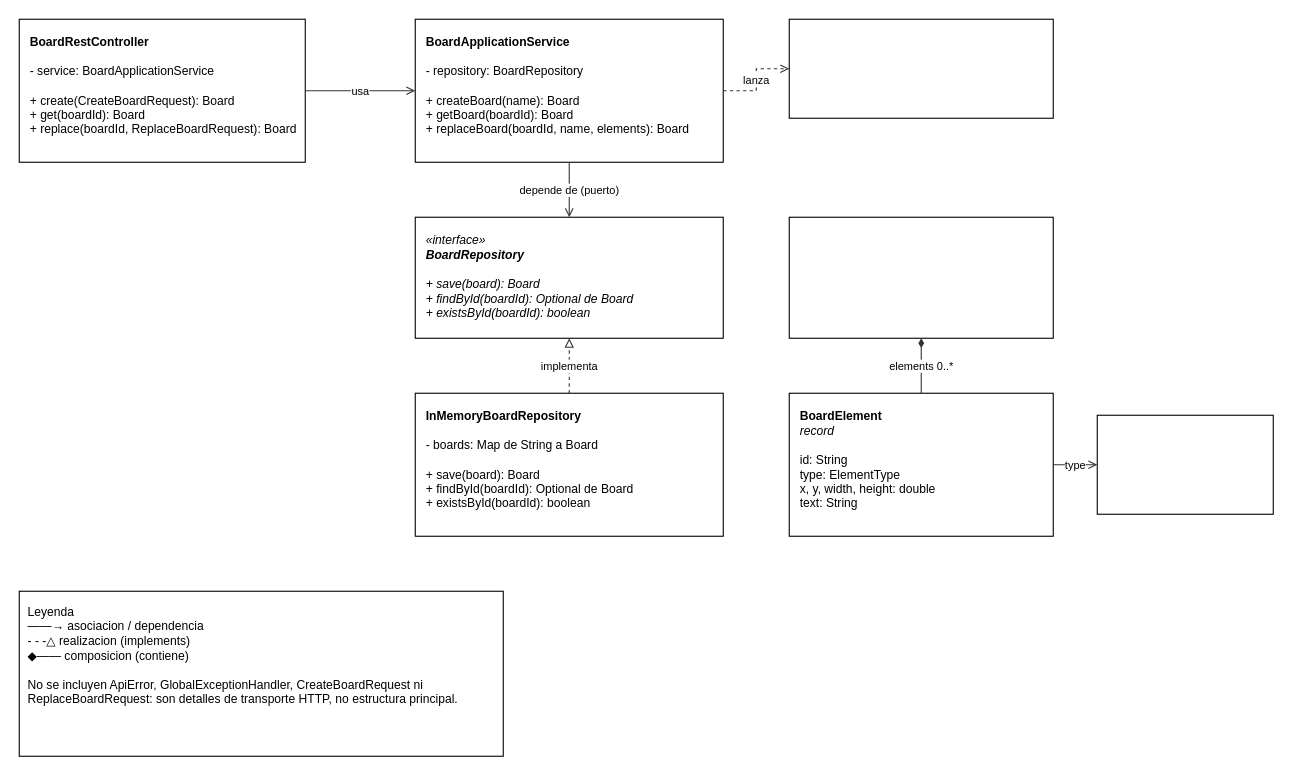
The diagram is 1293 pixels wide and 776 high, and some of its shapes have lost their labels. The centre of each missing label's shape, as x and y in pixels:
Board record id: String name: String elements: List de BoardElement: the point at 920,277
BoardNotFoundException extends RuntimeException + boardId(): String: the point at 920,68
«enum» ElementType RECTANGLE TEXT: the point at 1184,464
